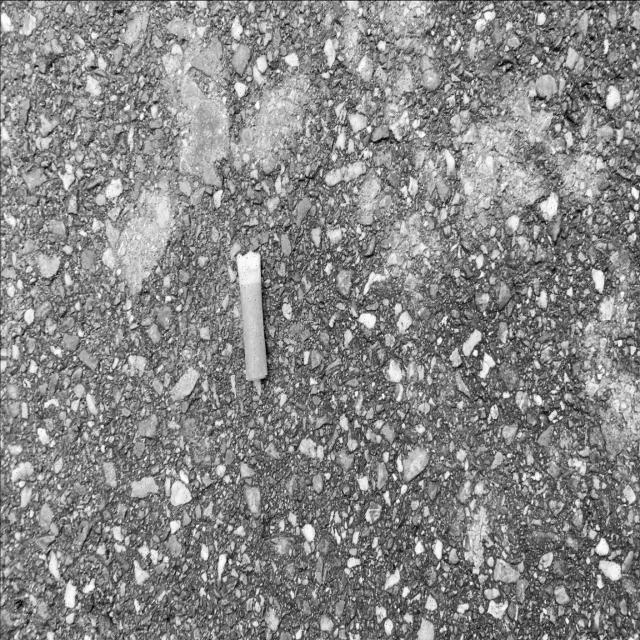other waste: (235, 249, 268, 383)
